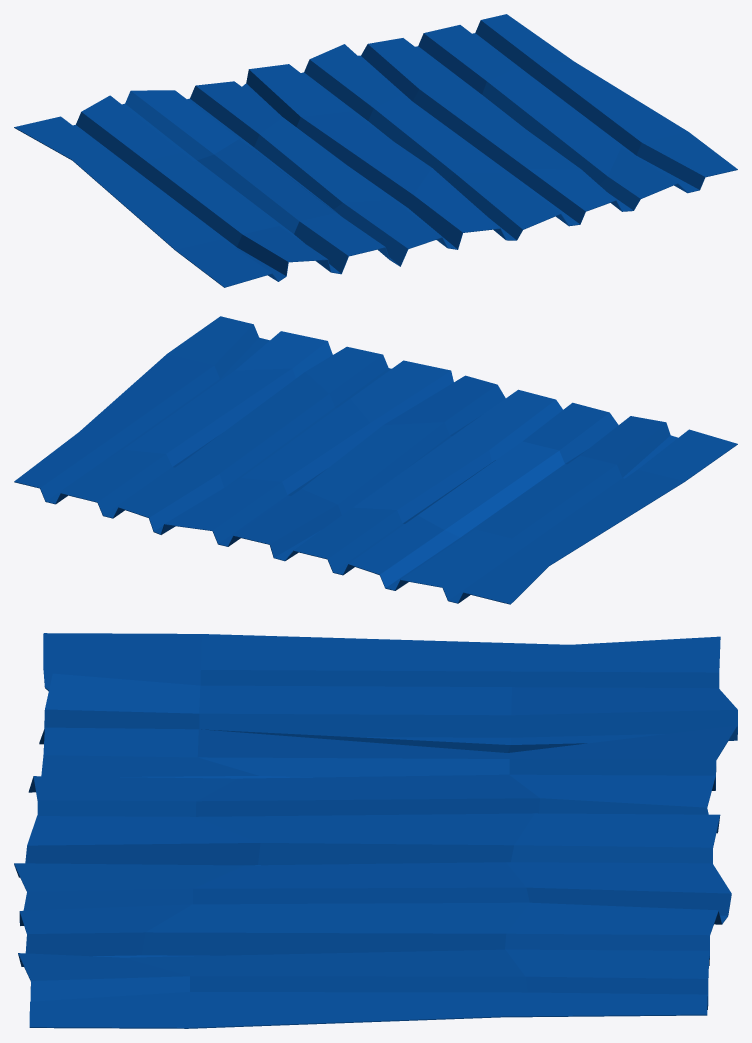
The model's file is House roof.fbx.
3 views of the same model, one above another, from view 1: azimuth 30°, elevation 25°; view 2: azimuth 150°, elevation 25°; view 3: azimuth 270°, elevation 25° (orthographic). The views are drawn at different scales.
Visible parts, largest first — view 1: House roof; view 2: House roof; view 3: House roof.
Boxes of the visible parts, x1=… form: House roof: x1=14, y1=14, x2=737, y2=287; House roof: x1=14, y1=316, x2=737, y2=604; House roof: x1=14, y1=633, x2=737, y2=1028.
Bounding box in the file's own units: 440 × 20.57 × 345.
